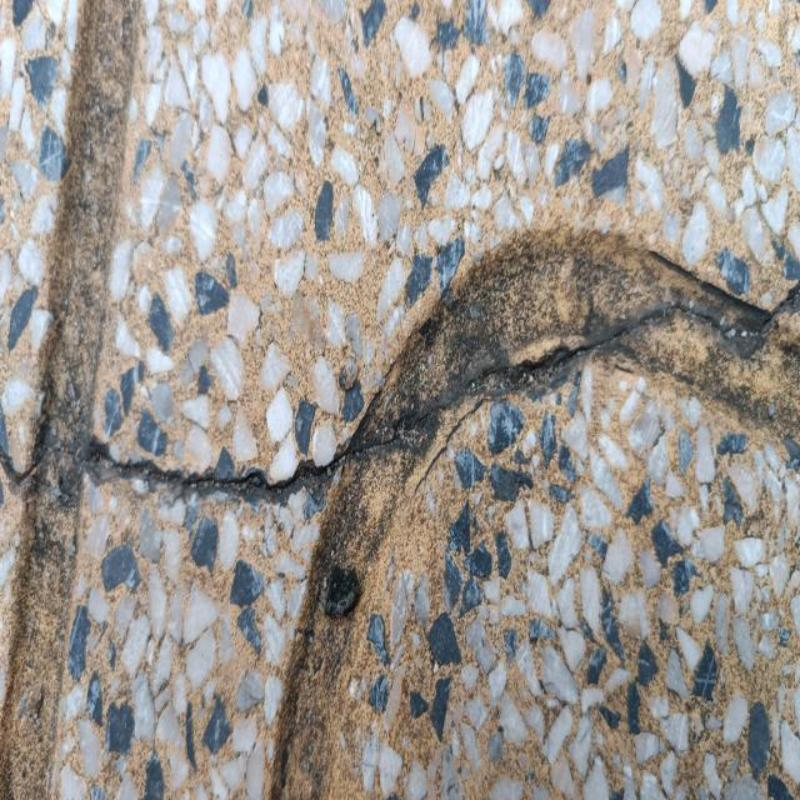pothole: (81, 282, 799, 505)
